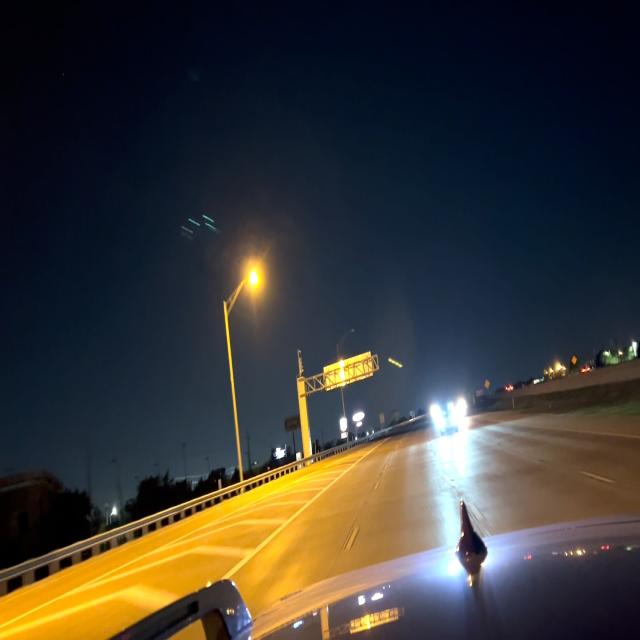back-of-sign: (322, 352, 372, 393)
